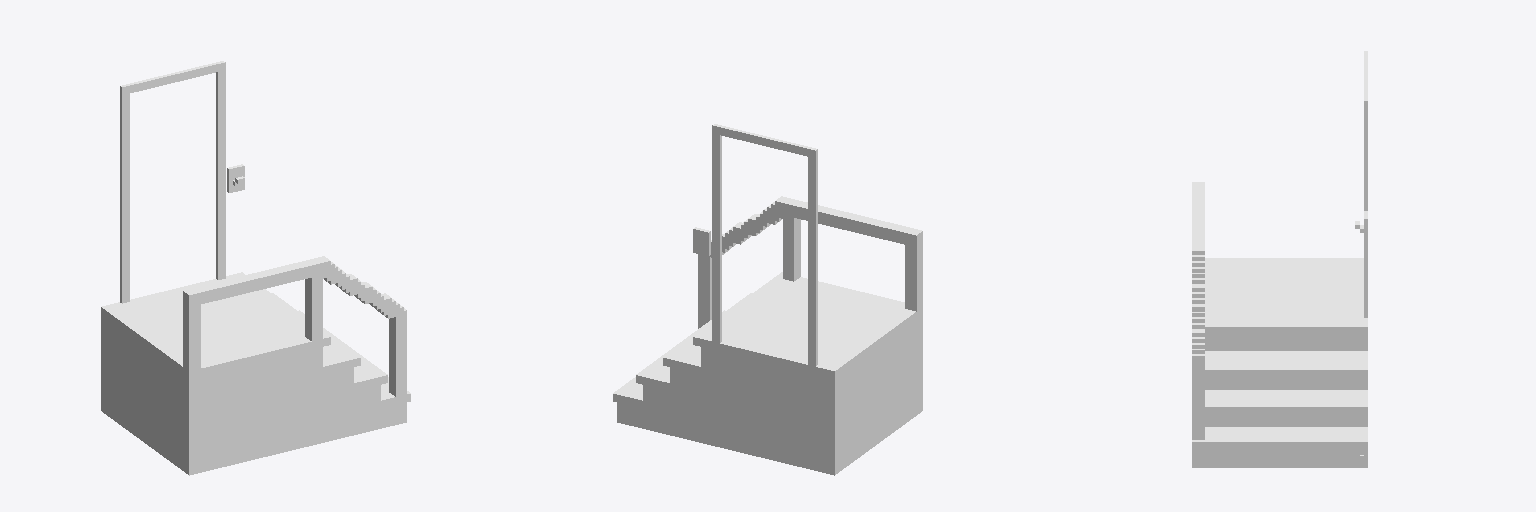
Rendered from Character_room-3-Staircase.obj.
3 views of the same model, side by side, from view 1: azimuth 30°, elevation 25°; view 2: azimuth 150°, elevation 25°; view 3: azimuth 270°, elevation 25° (orthographic).
Parts seen in each view (by area): view 1: Staircase; view 2: Staircase; view 3: Staircase.
Part boxes in pixels (x1,y1,x2,y2): Staircase: (101,61,410,475); Staircase: (613,124,922,475); Staircase: (1192,51,1367,467).
Bounding box in the file's own units: 5.8 × 8 × 4.